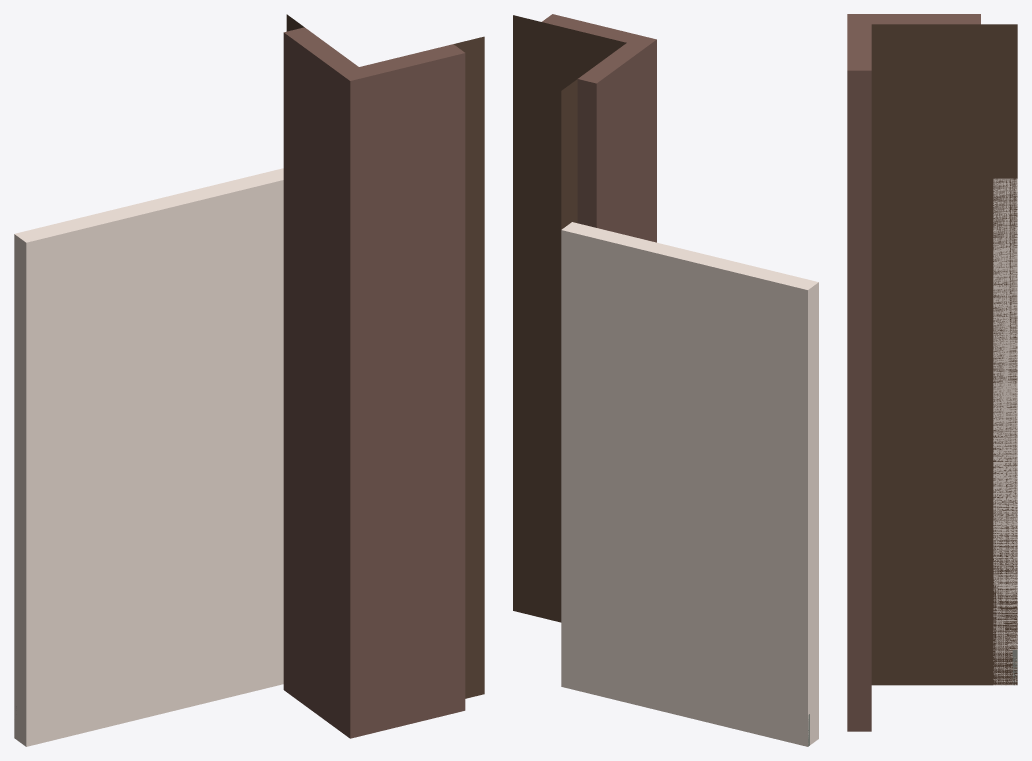
Rendered from mid-c2.fbx.
3 renders of one model, left to right at view 1: azimuth 30°, elevation 25°; view 2: azimuth 150°, elevation 25°; view 3: azimuth 270°, elevation 25°, orthographic. The views are drawn at different scales.
Visible parts, largest first — view 1: a2001/800/mid-c2; view 2: a2001/800/mid-c2; view 3: a2001/800/mid-c2.
Boxes of the visible parts, bbox=[...] form: a2001/800/mid-c2: bbox=[14, 14, 484, 746]; a2001/800/mid-c2: bbox=[513, 14, 818, 746]; a2001/800/mid-c2: bbox=[847, 14, 1017, 731].
Size of the model in its own units: 1.9 by 3 by 0.7.
